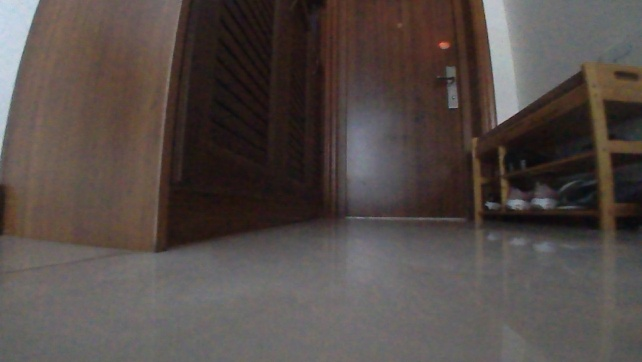door_anno: (319, 0, 499, 230)
